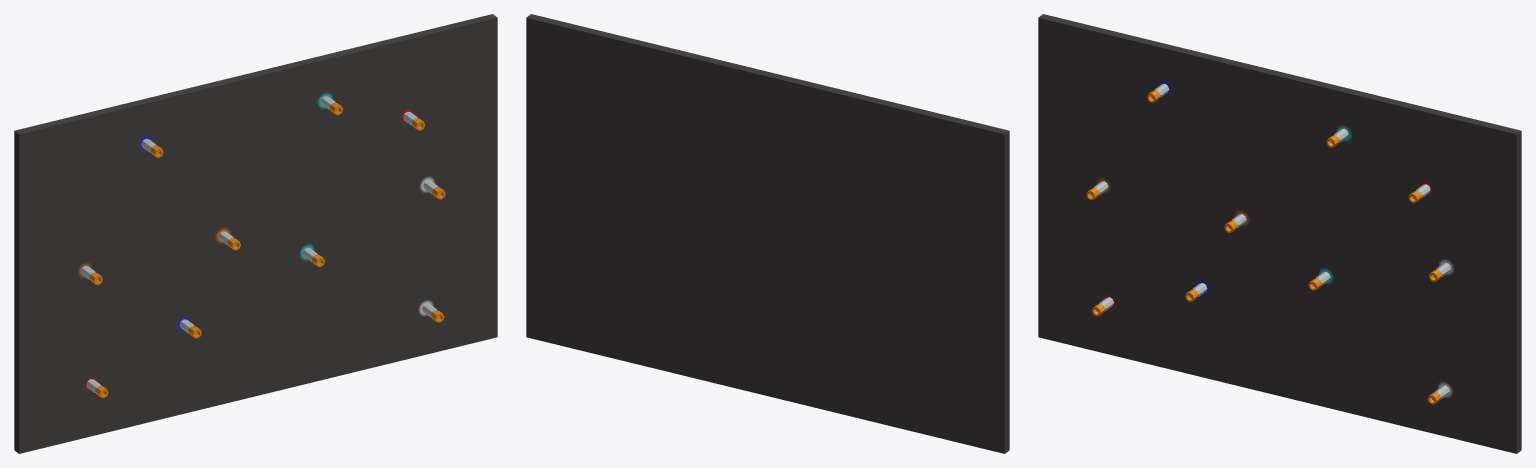
The model's file is Wall_Pegs.fbx.
3 renders of one model, left to right at view 1: azimuth 30°, elevation 25°; view 2: azimuth 150°, elevation 25°; view 3: azimuth 330°, elevation 25°, orthographic.
Parts seen in each view (by area): view 1: Wall; view 2: Wall; view 3: Wall.
Part boxes in pixels (x1,y1,x2,y2): Wall: [14, 14, 497, 453]; Wall: [526, 14, 1009, 453]; Wall: [1038, 14, 1521, 453].
Bounding box in the file's own units: 21.73 × 13.87 × 1.45.
